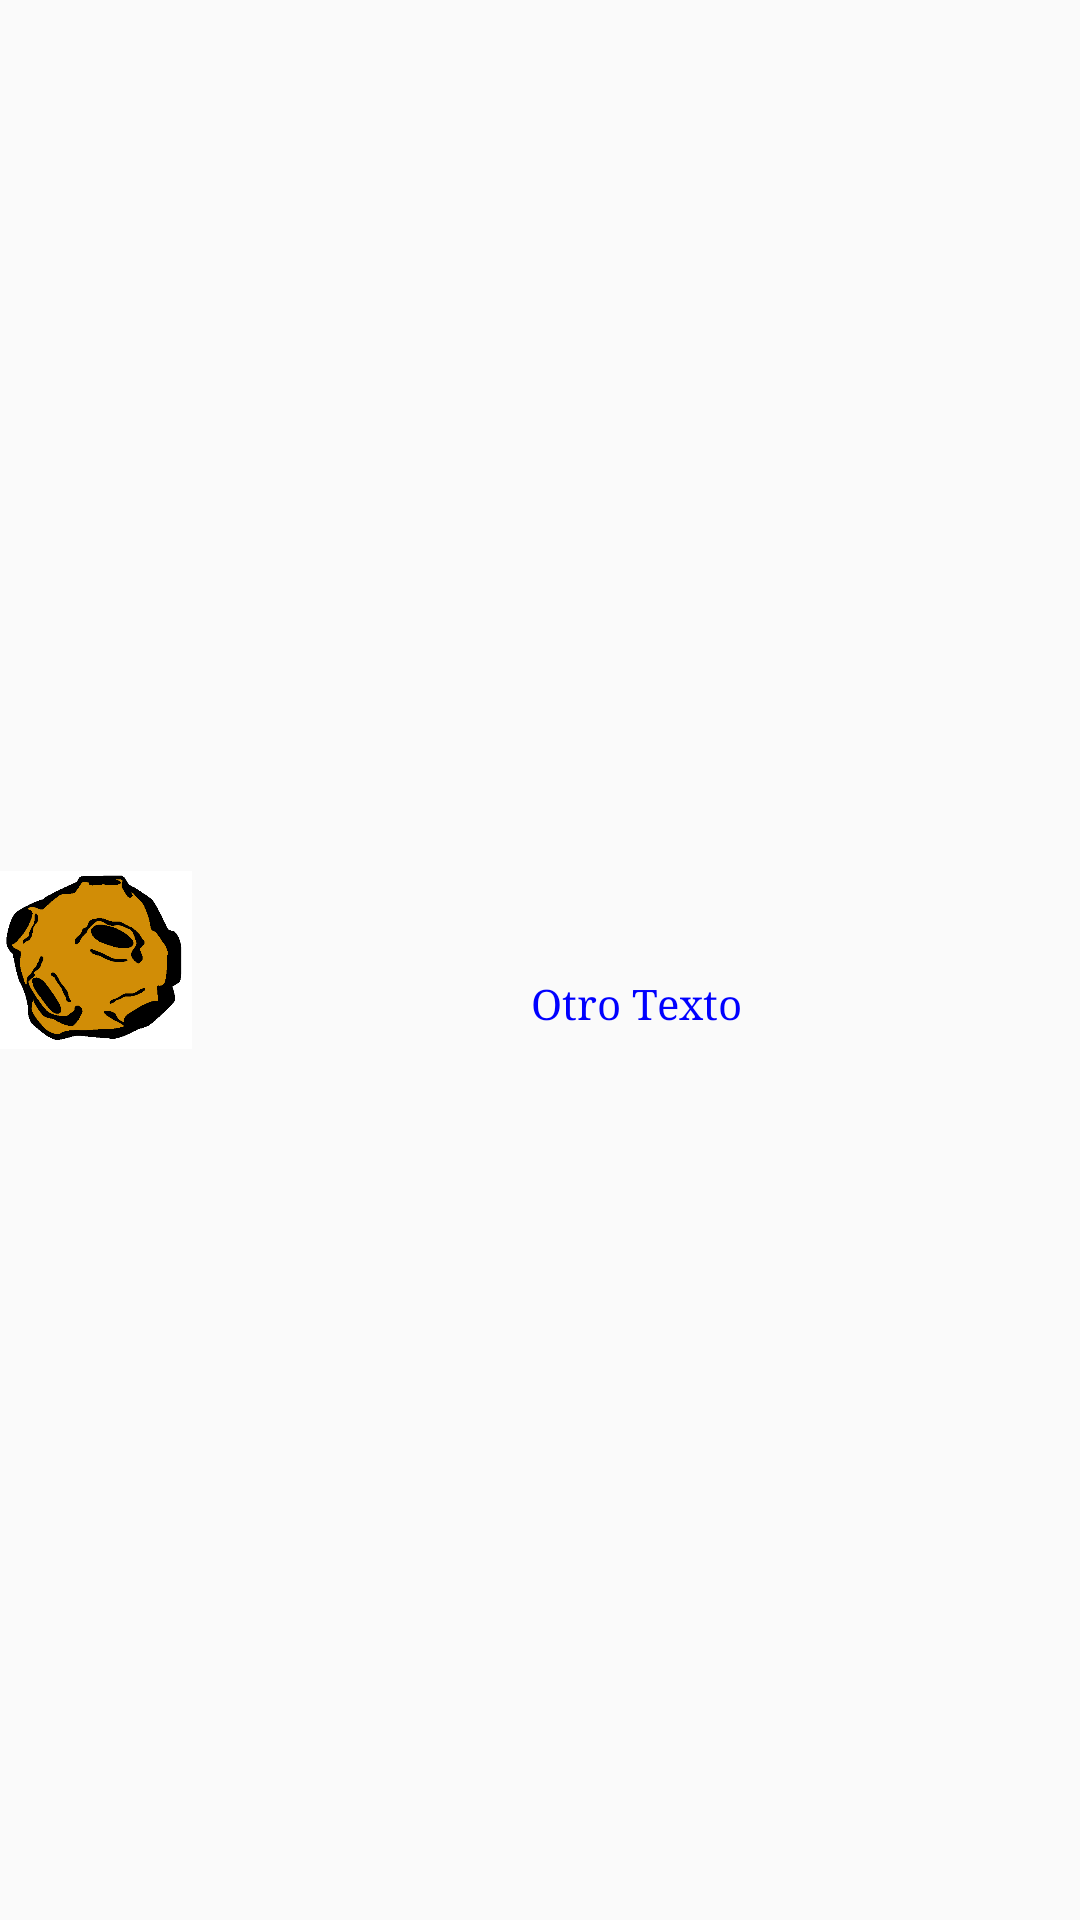

Icon click points for this 1080×1920 phone screenshot, format [x,y]:
asteroide: [94,957]
